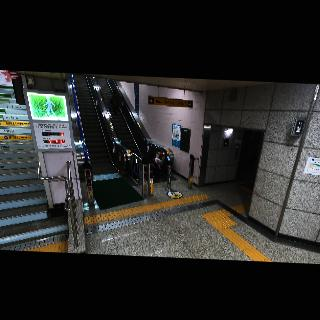anomaly: (140, 152, 166, 179)
normal: (108, 91, 125, 118)
